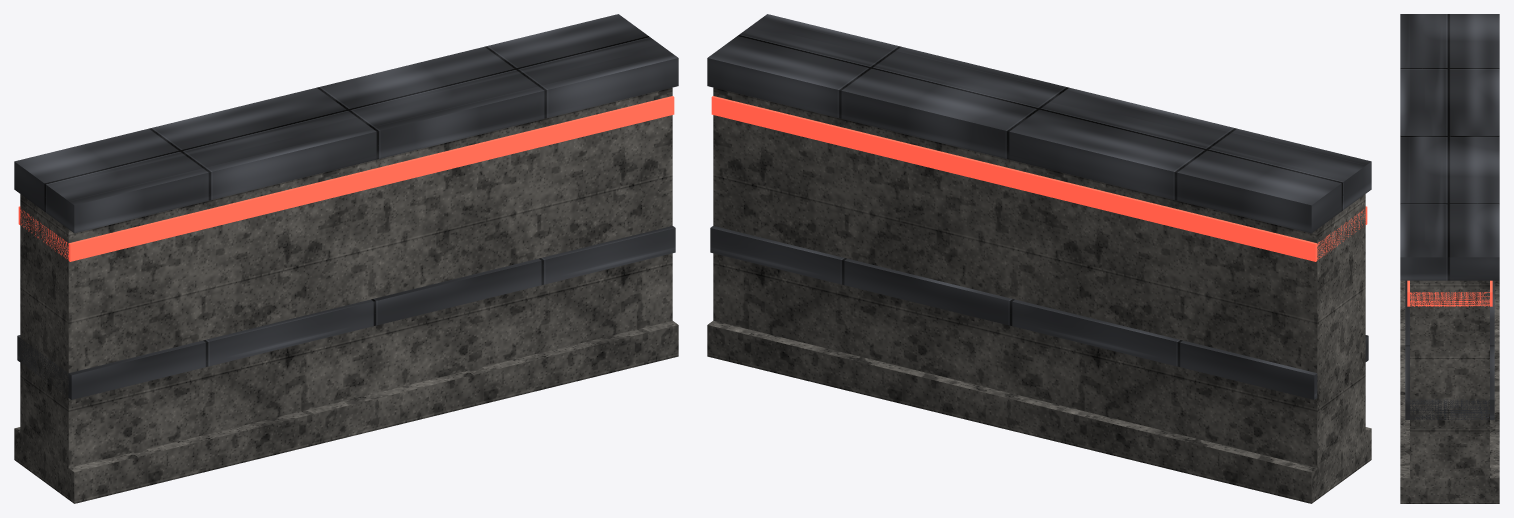
Rendered from Building - Wall Segment X-DCpJLsJq.glb.
The picture shows the model from 3 angles, left to right: view 1: azimuth 30°, elevation 25°; view 2: azimuth 150°, elevation 25°; view 3: azimuth 270°, elevation 25°; orthographic projection. The views are drawn at different scales.
Parts seen in each view (by area): view 1: Segment; view 2: Segment; view 3: Segment.
Boxes of the visible parts, <box> form: Segment: <box>14,14,678,503</box>; Segment: <box>707,14,1371,503</box>; Segment: <box>1400,14,1499,503</box>.
Size of the model in its own units: 1.8 by 0.85 by 0.31.
Materials: 3 (2 with a texture image).
